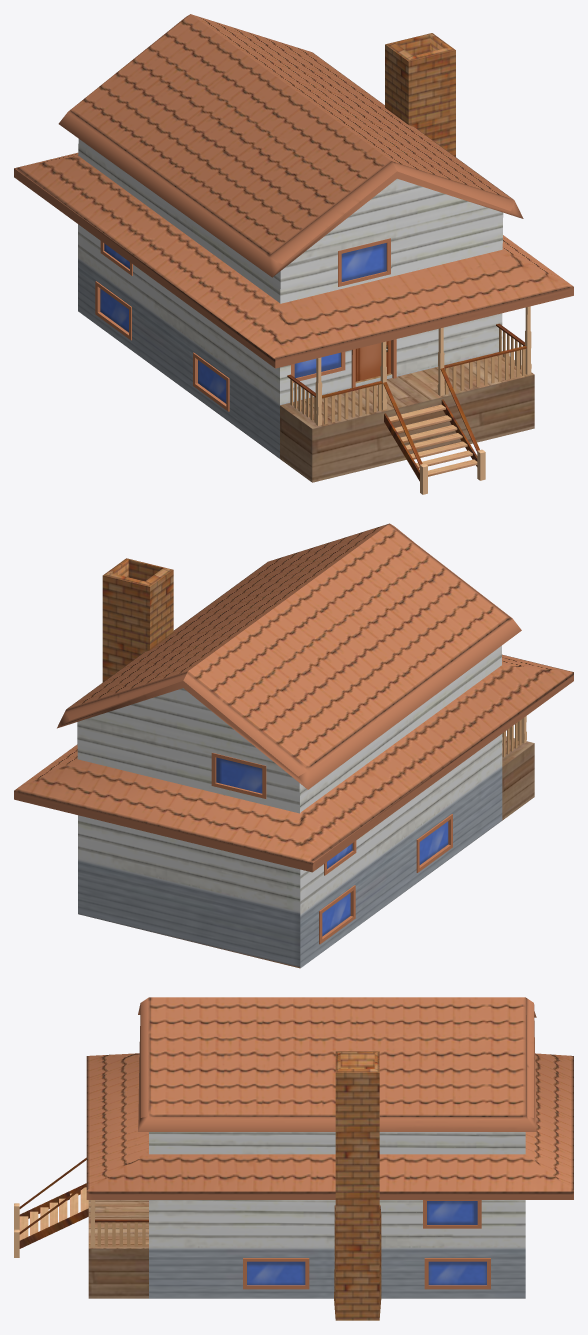
The model's file is House004.fbx.
3 views of the same model, one above another, from view 1: azimuth 30°, elevation 25°; view 2: azimuth 150°, elevation 25°; view 3: azimuth 270°, elevation 25° (orthographic). The views are drawn at different scales.
Parts seen in each view (by area): view 1: House_004, House_004_glass, TheDoor1; view 2: House_004, House_004_glass; view 3: House_004, House_004_glass.
Boxes of the visible parts, x1,y1,x2,y2 form: House_004: [14, 14, 573, 494]; House_004_glass: [104, 243, 386, 378]; TheDoor1: [355, 340, 390, 381]; House_004: [14, 523, 573, 968]; House_004_glass: [216, 757, 352, 868]; House_004: [14, 997, 573, 1320]; House_004_glass: [427, 1201, 477, 1224].
Bounding box in the file's own units: 60.09 × 49.62 × 99.54.
